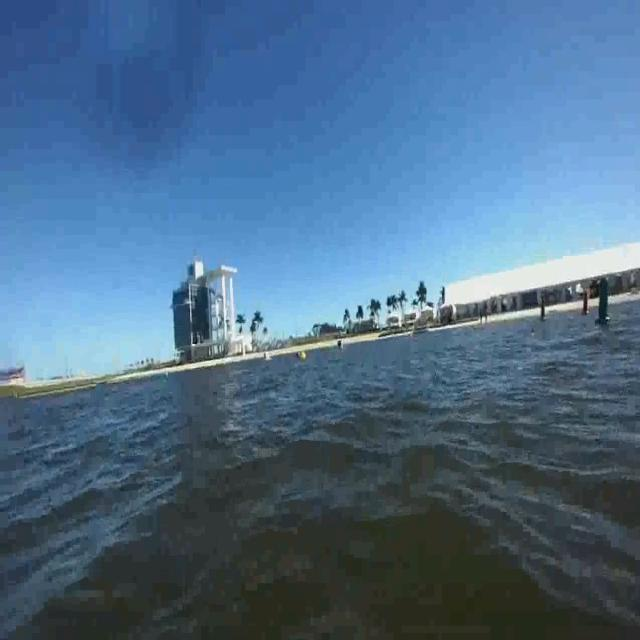green-column-buoy: (594, 278, 613, 328)
red-column-buoy: (580, 284, 590, 316)
